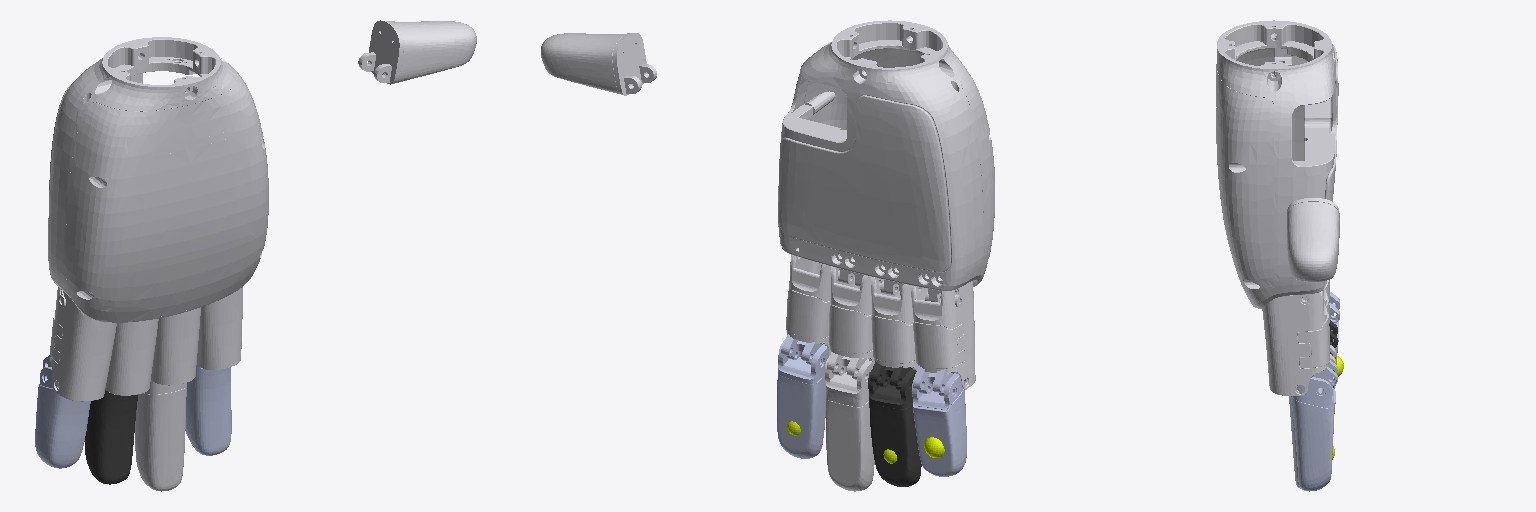
The robot description file, URDF, robot "fourier_right_hand_6dof":
<?xml version="1.0" encoding="utf-8"?>

<!-- 10162024-alpha-1 -->

<robot name="fourier_right_hand_6dof">
  <link
    name="R_hand_base_link">
    <inertial>
      <origin
        xyz="-0.00046411 0.00916118 -0.04313895"
        rpy="0 0 0" />
      <mass
        value="0.306" />
      <inertia
        ixx="0.00030404"
        ixy="4.9E-07"
        ixz="-3E-08"
        iyy="0.00041091"
        iyz="1E-08"
        izz="0.00019509" />
    </inertial>
    <visual>
      <origin
        xyz="0 0 0"
        rpy="0 0 0" />
      <geometry>
        <mesh
          filename="../meshes/fourier_hand_6dof/R_hand_base_link.STL" />
      </geometry>
      <material
        name="">
        <color
          rgba="0.86667 0.86667 0.8902 1" />
      </material>
    </visual>
    <collision>
      <origin
        xyz="0 0 0"
        rpy="0 0 0" />
      <geometry>
        <mesh
          filename="../meshes/fourier_hand_6dof/R_hand_base_link.STL" />
      </geometry>
    </collision>
  </link>
  <!-- <joint
    name="R_hand_base_joint"
    type="fixed">
    <origin
      xyz="0 0 -0.0210000000049082"
      rpy="-6.83500415935726E-05 1.22100046026127E-05 0" />
    <parent
      link="right_end_effector_link" />
    <child
      link="R_hand_base_link" />
    <axis
      xyz="0 0 0" />
  </joint> -->
  <link
    name="R_thumb_proximal_base_link">
    <inertial>
      <origin
        xyz="0.01102125 -2.455E-05 -0.00077678"
        rpy="0 0 0" />
      <mass
        value="0.00948218" />
      <inertia
        ixx="3E-07"
        ixy="1E-08"
        ixz="4E-08"
        iyy="9.5E-07"
        iyz="1E-08"
        izz="9.7E-07" />
    </inertial>
    <visual>
      <origin
        xyz="0 0 0"
        rpy="0 0 0" />
      <geometry>
        <mesh
          filename="../meshes/fourier_hand_6dof/R_thumb_proximal_base_link.STL" />
      </geometry>
      <material
        name="">
        <color
          rgba="0.8902 0.8902 0.91373 1" />
      </material>
    </visual>
    <collision>
      <origin
        xyz="0 0 0"
        rpy="0 0 0" />
      <geometry>
        <mesh
          filename="../meshes/fourier_hand_6dof/R_thumb_proximal_base_link.STL" />
      </geometry>
    </collision>
  </link>
  <joint
    name="R_thumb_proximal_yaw_joint"
    type="revolute">
    <origin
      xyz="0.021995 0.015502 -0.024995"
      rpy="3.1416 0 0" />
    <parent
      link="R_hand_base_link" />
    <child
      link="R_thumb_proximal_base_link" />
    <axis
      xyz="0 0 1" />
    <limit
      lower="-1.74"
      upper="0"
      effort="10"
      velocity="0.8" />
  </joint>
  <link
    name="R_thumb_proximal_link">
    <inertial>
      <origin
        xyz="0.03218903 0.000287 -2.839E-05"
        rpy="0 0 0" />
      <mass
        value="0.07405243" />
      <inertia
        ixx="1.132E-05"
        ixy="-1.7E-07"
        ixz="4E-08"
        iyy="3.228E-05"
        iyz="-1E-08"
        izz="3.419E-05" />
    </inertial>
    <visual>
      <origin
        xyz="0 0 0"
        rpy="0 0 0" />
      <geometry>
        <mesh
          filename="../meshes/fourier_hand_6dof/R_thumb_proximal_link.STL" />
      </geometry>
      <material
        name="">
        <color
          rgba="0.86667 0.86667 0.8902 1" />
      </material>
    </visual>
    <collision>
      <origin
        xyz="0 0 0"
        rpy="0 0 0" />
      <geometry>
        <mesh
          filename="../meshes/fourier_hand_6dof/R_thumb_proximal_link.STL" />
      </geometry>
    </collision>
  </link>
  <joint
    name="R_thumb_proximal_pitch_joint"
    type="revolute">
    <origin
      xyz="0.02175 0 0"
      rpy="1.5709 1.221E-05 0" />
    <parent
      link="R_thumb_proximal_base_link" />
    <child
      link="R_thumb_proximal_link" />
    <axis
      xyz="0 0 1" />
    <limit
      lower="0"
      upper="1.22"
      effort="10"
      velocity="0.8" />
  </joint>
  <link
    name="R_thumb_distal_link">
    <inertial>
      <origin
        xyz="0.01373199 -0.00277415 0"
        rpy="0 0 0" />
      <mass
        value="0.01974135" />
      <inertia
        ixx="9E-07"
        ixy="-9E-08"
        ixz="0"
        iyy="2.33E-06"
        iyz="0"
        izz="2.19E-06" />
    </inertial>
    <visual>
      <origin
        xyz="0 0 0"
        rpy="0 0 0" />
      <geometry>
        <mesh
          filename="../meshes/fourier_hand_6dof/R_thumb_distal_link.STL" />
      </geometry>
      <material
        name="">
        <color
          rgba="0.86667 0.86667 0.8902 1" />
      </material>
    </visual>
    <collision>
      <origin
        xyz="0 0 0"
        rpy="0 0 0" />
      <geometry>
        <mesh
          filename="../meshes/fourier_hand_6dof/R_thumb_distal_link.STL" />
      </geometry>
    </collision>
  </link>
  <joint
    name="R_thumb_distal_joint"
    type="revolute">
    <origin
      xyz="0.061444 0.0082822 0"
      rpy="0 0 1.221E-05" />
    <parent
      link="R_thumb_proximal_link" />
    <child
      link="R_thumb_distal_link" />
    <axis
      xyz="0 0 1" />
    <limit
      lower="0"
      upper="1.23"
      effort="10"
      velocity="0.8" />
    <mimic
      joint="R_thumb_proximal_pitch_joint"
      multiplier="0.974"
      offset="0" />
  </joint>

  <link name="R_thumb_tip_link">
    <visual>
      <origin
        xyz="0 0 0"
        rpy="0 0 0" />
      <geometry>
        <sphere radius="0.005" />
      </geometry>
      <material name="yellow">
        <color rgba="0.9 1 0 1" />
      </material>
    </visual>
  </link>
  <joint name="R_thumb_tip_joint" type="fixed">
    <parent link="R_thumb_distal_link" />
    <child link="R_thumb_tip_link" />
    <origin rpy="0 0 0" xyz="0.031 0 0" />
  </joint>


  <link
    name="R_index_proximal_link">
    <inertial>
      <origin
        xyz="0.00959983 0.0004431 2.96E-06"
        rpy="0 0 0" />
      <mass
        value="0.01911771" />
      <inertia
        ixx="8.6E-07"
        ixy="1.2E-07"
        ixz="0"
        iyy="3.71E-06"
        iyz="0"
        izz="3.85E-06" />
    </inertial>
    <visual>
      <origin
        xyz="0 0 0"
        rpy="0 0 0" />
      <geometry>
        <mesh
          filename="../meshes/fourier_hand_6dof/R_index_proximal_link.STL" />
      </geometry>
      <material
        name="">
        <color
          rgba="0.8902 0.8902 0.91373 1" />
      </material>
    </visual>
    <collision>
      <origin
        xyz="0 0 0"
        rpy="0 0 0" />
      <geometry>
        <mesh
          filename="../meshes/fourier_hand_6dof/R_index_proximal_link.STL" />
      </geometry>
    </collision>
  </link>
  <joint
    name="R_index_proximal_joint"
    type="revolute">
    <origin
      xyz="0.026864 0.012307 -0.095892"
      rpy="-3.1403 1.5184 0.0013039" />
    <parent
      link="R_hand_base_link" />
    <child
      link="R_index_proximal_link" />
    <axis
      xyz="0 0 1" />
    <limit
      lower="-1.57"
      upper="0"
      effort="10"
      velocity="0.8" />
  </joint>
  <link
    name="R_index_intermediate_link">
    <inertial>
      <origin
        xyz="0.01800441 0.00299919 -9.23E-06"
        rpy="0 0 0" />
      <mass
        value="0.01292544" />
      <inertia
        ixx="3.7E-07"
        ixy="2.5E-07"
        ixz="0"
        iyy="2.01E-06"
        iyz="0"
        izz="2.04E-06" />
    </inertial>
    <visual>
      <origin
        xyz="0 0 0"
        rpy="0 0 0" />
      <geometry>
        <mesh
          filename="../meshes/fourier_hand_6dof/R_index_intermediate_link.STL" />
      </geometry>
      <material
        name="">
        <color
          rgba="0.79216 0.81961 0.93333 1" />
      </material>
    </visual>
    <collision>
      <origin
        xyz="0 0 0"
        rpy="0 0 0" />
      <geometry>
        <mesh
          filename="../meshes/fourier_hand_6dof/R_index_intermediate_link.STL" />
      </geometry>
    </collision>
  </link>
  <joint
    name="R_index_intermediate_joint"
    type="revolute">
    <origin
      xyz="0.031532 -0.0054551 0"
      rpy="0 0 0" />
    <parent
      link="R_index_proximal_link" />
    <child
      link="R_index_intermediate_link" />
    <axis
      xyz="0 0 1" />
    <limit
      lower="-1.74"
      upper="0"
      effort="10"
      velocity="0.8" />
    <mimic
      joint="R_index_proximal_joint"
      multiplier="1.128"
      offset="0" />
  </joint>

  <link name="R_index_tip_link">
    <visual>
      <origin
        xyz="0 0 0"
        rpy="0 0 0" />
      <geometry>
        <sphere radius="0.005" />
      </geometry>
      <material name="yellow">
        <color rgba="0.9 1 0 1" />
      </material>
    </visual>
  </link>
  <joint name="R_index_tip_joint" type="fixed">
    <parent link="R_index_intermediate_link" />
    <child link="R_index_tip_link" />
    <origin rpy="0 0 0" xyz="0.038 -0.0015 0" />
  </joint>


  <link
    name="R_middle_proximal_link">
    <inertial>
      <origin
        xyz="0.00955708 0.00071862 2.96E-06"
        rpy="0 0 0" />
      <mass
        value="0.01911771" />
      <inertia
        ixx="8.6E-07"
        ixy="6E-08"
        ixz="0"
        iyy="3.72E-06"
        iyz="0"
        izz="3.85E-06" />
    </inertial>
    <visual>
      <origin
        xyz="0 0 0"
        rpy="0 0 0" />
      <geometry>
        <mesh
          filename="../meshes/fourier_hand_6dof/R_middle_proximal_link.STL" />
      </geometry>
      <material
        name="">
        <color
          rgba="0.8902 0.8902 0.91373 1" />
      </material>
    </visual>
    <collision>
      <origin
        xyz="0 0 0"
        rpy="0 0 0" />
      <geometry>
        <mesh
          filename="../meshes/fourier_hand_6dof/R_middle_proximal_link.STL" />
      </geometry>
    </collision>
  </link>
  <joint
    name="R_middle_proximal_joint"
    type="revolute">
    <origin
      xyz="0.0084962 0.012307 -0.097896"
      rpy="-1.7476 1.5707 1.394" />
    <parent
      link="R_hand_base_link" />
    <child
      link="R_middle_proximal_link" />
    <axis
      xyz="0 0 1" />
    <limit
      lower="-1.57"
      upper="0"
      effort="10"
      velocity="0.8" />
  </joint>
  <link
    name="R_middle_intermediate_link">
    <inertial>
      <origin
        xyz="0.02128 0.0040831 -9.98E-06"
        rpy="0 0 0" />
      <mass
        value="0.01535" />
      <inertia
        ixx="4.1E-07"
        ixy="2.2E-07"
        ixz="0"
        iyy="3.28E-06"
        iyz="0"
        izz="3.29E-06" />
    </inertial>
    <visual>
      <origin
        xyz="0 0 0"
        rpy="0 0 0" />
      <geometry>
        <mesh
          filename="../meshes/fourier_hand_6dof/R_middle_intermediate_link.STL" />
      </geometry>
      <material
        name="">
        <color
          rgba="0.86667 0.86667 0.8902 1" />
      </material>
    </visual>
    <collision>
      <origin
        xyz="0 0 0"
        rpy="0 0 0" />
      <geometry>
        <mesh
          filename="../meshes/fourier_hand_6dof/R_middle_intermediate_link.STL" />
      </geometry>
    </collision>
  </link>
  <joint
    name="R_middle_intermediate_joint"
    type="revolute">
    <origin
      xyz="0.031662 -0.0046408 0"
      rpy="0 0 0" />
    <parent
      link="R_middle_proximal_link" />
    <child
      link="R_middle_intermediate_link" />
    <axis
      xyz="0 0 1" />
    <limit
      lower="-1.74"
      upper="0"
      effort="10"
      velocity="0.8" />
    <mimic
      joint="R_middle_proximal_joint"
      multiplier="1.131"
      offset="0" />
  </joint>

  <link name="R_middle_tip_link">
    <visual>
      <origin
        xyz="0 0 0"
        rpy="0 0 0" />
      <geometry>
        <sphere radius="0.005" />
      </geometry>
      <material name="yellow">
        <color rgba="0.9 1 0 1" />
      </material>
    </visual>
  </link>
  <joint name="R_middle_tip_joint" type="fixed">
    <parent link="R_middle_intermediate_link" />
    <child link="R_middle_tip_link" />
    <origin rpy="0 0 0" xyz="0.045 0.0005 0" />
  </joint>


  <link
    name="R_ring_proximal_link">
    <inertial>
      <origin
        xyz="0.00959986 0.00044244 2.96E-06"
        rpy="0 0 0" />
      <mass
        value="0.01911771" />
      <inertia
        ixx="8.6E-07"
        ixy="1.2E-07"
        ixz="0"
        iyy="3.71E-06"
        iyz="0"
        izz="3.85E-06" />
    </inertial>
    <visual>
      <origin
        xyz="0 0 0"
        rpy="0 0 0" />
      <geometry>
        <mesh
          filename="../meshes/fourier_hand_6dof/R_ring_proximal_link.STL" />
      </geometry>
      <material
        name="">
        <color
          rgba="0.8902 0.8902 0.91373 1" />
      </material>
    </visual>
    <collision>
      <origin
        xyz="0 0 0"
        rpy="0 0 0" />
      <geometry>
        <mesh
          filename="../meshes/fourier_hand_6dof/R_ring_proximal_link.STL" />
      </geometry>
    </collision>
  </link>
  <joint
    name="R_ring_proximal_joint"
    type="revolute">
    <origin
      xyz="-0.009965 0.012307 -0.097841"
      rpy="0 1.5184 3.1416" />
    <parent
      link="R_hand_base_link" />
    <child
      link="R_ring_proximal_link" />
    <axis
      xyz="0 0 1" />
    <limit
      lower="-1.57"
      upper="0"
      effort="10"
      velocity="0.8" />
  </joint>
  <link
    name="R_ring_intermediate_link">
    <inertial>
      <origin
        xyz="0.018005 0.002998 -9.23E-06"
        rpy="0 0 0" />
      <mass
        value="0.012925" />
      <inertia
        ixx="3.7E-07"
        ixy="2.5E-07"
        ixz="0"
        iyy="2.01E-06"
        iyz="0"
        izz="2.04E-06" />
    </inertial>
    <visual>
      <origin
        xyz="0 0 0"
        rpy="0 0 0" />
      <geometry>
        <mesh
          filename="../meshes/fourier_hand_6dof/R_ring_intermediate_link.STL" />
      </geometry>
      <material
        name="">
        <color
          rgba="0.29804 0.29804 0.29804 1" />
      </material>
    </visual>
    <collision>
      <origin
        xyz="0 0 0"
        rpy="0 0 0" />
      <geometry>
        <mesh
          filename="../meshes/fourier_hand_6dof/R_ring_intermediate_link.STL" />
      </geometry>
    </collision>
  </link>
  <joint
    name="R_ring_intermediate_joint"
    type="revolute">
    <origin
      xyz="0.031531 -0.0054572 0"
      rpy="0 0 0" />
    <parent
      link="R_ring_proximal_link" />
    <child
      link="R_ring_intermediate_link" />
    <axis
      xyz="0 0 1" />
    <limit
      lower="-1.74"
      upper="0"
      effort="10"
      velocity="0.8" />
    <mimic
      joint="R_ring_proximal_joint"
      multiplier="1.143"
      offset="0" />
  </joint>

  <link name="R_ring_tip_link">
    <visual>
      <origin
        xyz="0 0 0"
        rpy="0 0 0" />
      <geometry>
        <sphere radius="0.005" />
      </geometry>
      <material name="green">
        <color rgba="0.9 1 0 1" />
      </material>
    </visual>
  </link>
  <joint name="R_ring_tip_joint" type="fixed">
    <parent link="R_ring_intermediate_link" />
    <child link="R_ring_tip_link" />
    <origin rpy="0 0 0" xyz="0.038 -0.0015 0" />
  </joint>


  <link
    name="R_pinky_proximal_link">
    <inertial>
      <origin
        xyz="0.00964414 9.378E-05 2.96E-06"
        rpy="0 0 0" />
      <mass
        value="0.01911771" />
      <inertia
        ixx="8.8E-07"
        ixy="2E-07"
        ixz="0"
        iyy="3.7E-06"
        iyz="0"
        izz="3.85E-06" />
    </inertial>
    <visual>
      <origin
        xyz="0 0 0"
        rpy="0 0 0" />
      <geometry>
        <mesh
          filename="../meshes/fourier_hand_6dof/R_pinky_proximal_link.STL" />
      </geometry>
      <material
        name="">
        <color
          rgba="0.8902 0.8902 0.91373 1" />
      </material>
    </visual>
    <collision>
      <origin
        xyz="0 0 0"
        rpy="0 0 0" />
      <geometry>
        <mesh
          filename="../meshes/fourier_hand_6dof/R_pinky_proximal_link.STL" />
      </geometry>
    </collision>
  </link>
  <joint
    name="R_pinky_proximal_joint"
    type="revolute">
    <origin
      xyz="-0.028232 0.012307 -0.095916"
      rpy="-0.00065397 1.4661 3.1409" />
    <parent
      link="R_hand_base_link" />
    <child
      link="R_pinky_proximal_link" />
    <axis
      xyz="0 0 1" />
    <limit
      lower="-1.57"
      upper="0"
      effort="10"
      velocity="0.8" />
  </joint>
  <link
    name="R_pinky_intermediate_link">
    <inertial>
      <origin
        xyz="0.0160962 0.00118598 -8.72E-06"
        rpy="0 0 0" />
      <mass
        value="0.00568707" />
      <inertia
        ixx="1.7E-07"
        ixy="1.3E-07"
        ixz="0"
        iyy="6.2E-07"
        iyz="0"
        izz="6.7E-07" />
    </inertial>
    <visual>
      <origin
        xyz="0 0 0"
        rpy="0 0 0" />
      <geometry>
        <mesh
          filename="../meshes/fourier_hand_6dof/R_pinky_intermediate_link.STL" />
      </geometry>
      <material
        name="">
        <color
          rgba="0.79216 0.81961 0.93333 1" />
      </material>
    </visual>
    <collision>
      <origin
        xyz="0 0 0"
        rpy="0 0 0" />
      <geometry>
        <mesh
          filename="../meshes/fourier_hand_6dof/R_pinky_intermediate_link.STL" />
      </geometry>
    </collision>
  </link>
  <joint
    name="R_pinky_intermediate_joint"
    type="revolute">
    <origin
      xyz="0.031338 -0.0064763 0"
      rpy="0 0 6.7976E-05" />
    <parent
      link="R_pinky_proximal_link" />
    <child
      link="R_pinky_intermediate_link" />
    <axis
      xyz="0 0 1" />
    <limit
      lower="-1.74"
      upper="0"
      effort="10"
      velocity="0.8" />
    <mimic
      joint="R_pinky_proximal_joint"
      multiplier="1.129"
      offset="0" />
  </joint>

  <link name="R_pinky_tip_link">
    <visual>
      <origin
        xyz="0 0 0"
        rpy="0 0 0" />
      <geometry>
        <sphere radius="0.005" />
      </geometry>
      <material name="yellow">
        <color rgba="0.9 1 0 1" />
      </material>
    </visual>
  </link>
  <joint name="R_pinky_tip_joint" type="fixed">
    <parent link="R_pinky_intermediate_link" />
    <child link="R_pinky_tip_link" />
    <origin rpy="0 0 0" xyz="0.031 -0.004 0" />
  </joint>

</robot>

--- What the picture shows (computed from the rendered views, not written in the file) ---
The picture shows the robot from 3 angles, left to right: view 1: azimuth 30°, elevation 25°; view 2: azimuth 150°, elevation 25°; view 3: azimuth 270°, elevation 25°; orthographic projection.
Model fourier_right_hand_6dof with 17 links and 16 joints (11 revolute, 5 fixed), rooted at R_hand_base_link, posed all joints at 0.
Visible links, largest first — view 1: R_hand_base_link, R_thumb_distal_link, R_pinky_proximal_link, R_middle_intermediate_link, R_ring_intermediate_link, R_pinky_intermediate_link, R_index_intermediate_link, R_ring_proximal_link, R_middle_proximal_link, R_index_proximal_link; view 2: R_hand_base_link, R_middle_intermediate_link, R_thumb_distal_link, R_index_intermediate_link, R_ring_intermediate_link, R_pinky_proximal_link, R_pinky_intermediate_link, R_index_proximal_link, R_middle_proximal_link, R_ring_proximal_link; view 3: R_hand_base_link, R_index_proximal_link, R_index_intermediate_link, R_thumb_distal_link.
Link boxes in pixels (bbox=[...]): R_hand_base_link: bbox=[48, 37, 268, 322]; R_thumb_distal_link: bbox=[358, 20, 476, 84]; R_pinky_proximal_link: bbox=[50, 287, 116, 401]; R_middle_intermediate_link: bbox=[135, 380, 186, 491]; R_ring_intermediate_link: bbox=[84, 390, 137, 484]; R_pinky_intermediate_link: bbox=[35, 355, 90, 468]; R_index_intermediate_link: bbox=[186, 365, 231, 455]; R_ring_proximal_link: bbox=[105, 319, 158, 395]; R_middle_proximal_link: bbox=[151, 307, 200, 385]; R_index_proximal_link: bbox=[197, 287, 242, 369]; R_hand_base_link: bbox=[778, 20, 994, 307]; R_middle_intermediate_link: bbox=[825, 352, 874, 491]; R_thumb_distal_link: bbox=[541, 33, 656, 95]; R_index_intermediate_link: bbox=[777, 334, 831, 458]; R_ring_intermediate_link: bbox=[868, 361, 921, 486]; R_pinky_proximal_link: bbox=[910, 281, 975, 389]; R_pinky_intermediate_link: bbox=[912, 366, 966, 476]; R_index_proximal_link: bbox=[786, 255, 830, 355]; R_middle_proximal_link: bbox=[829, 266, 874, 365]; R_ring_proximal_link: bbox=[871, 277, 917, 370]; R_hand_base_link: bbox=[1216, 20, 1338, 308]; R_index_proximal_link: bbox=[1262, 291, 1329, 396]; R_index_intermediate_link: bbox=[1290, 360, 1337, 491]; R_thumb_distal_link: bbox=[1287, 198, 1339, 281].
Size in the robot's own frame: 0.1931 by 0.0511 by 0.1908 metres.
10 mesh visuals loaded from 12 distinct referenced files (10 binary STL); not drawn: 2 (reference not matched to a file when rendering).
